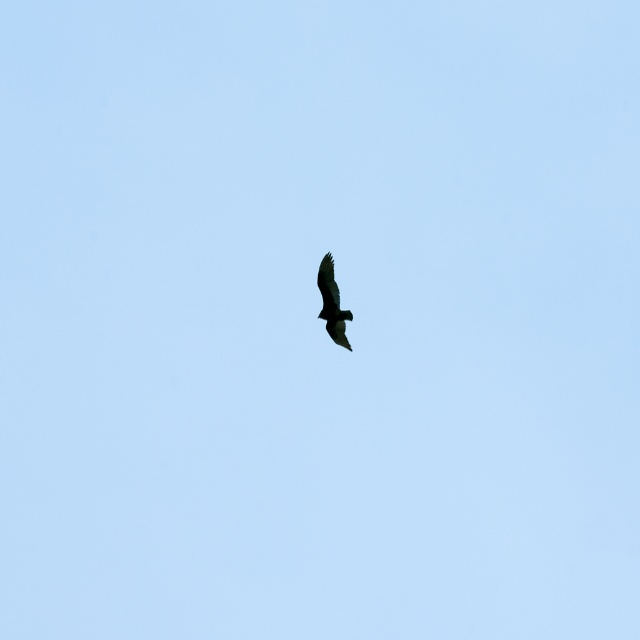Eagle: (314, 244, 356, 353)
